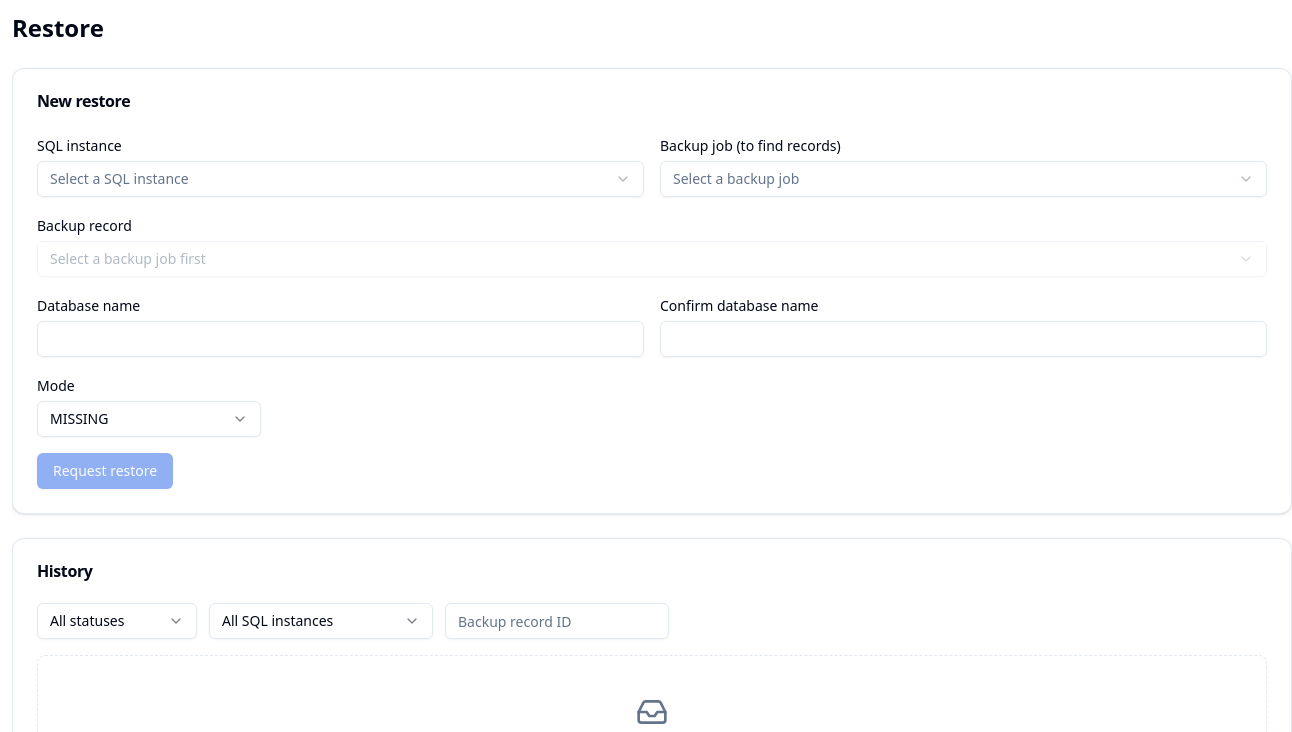
RestorePage -- admin role › renders the full mode select with ALL / EXISTING / MISSING options
Expected: the text "Mode" is shown, [37,376,75,395]
What coordinates should you click on to do the following:
click the dropdown labelled "MISSING"
I would click on:
 (149, 419)
Its box is [37,401,261,437].
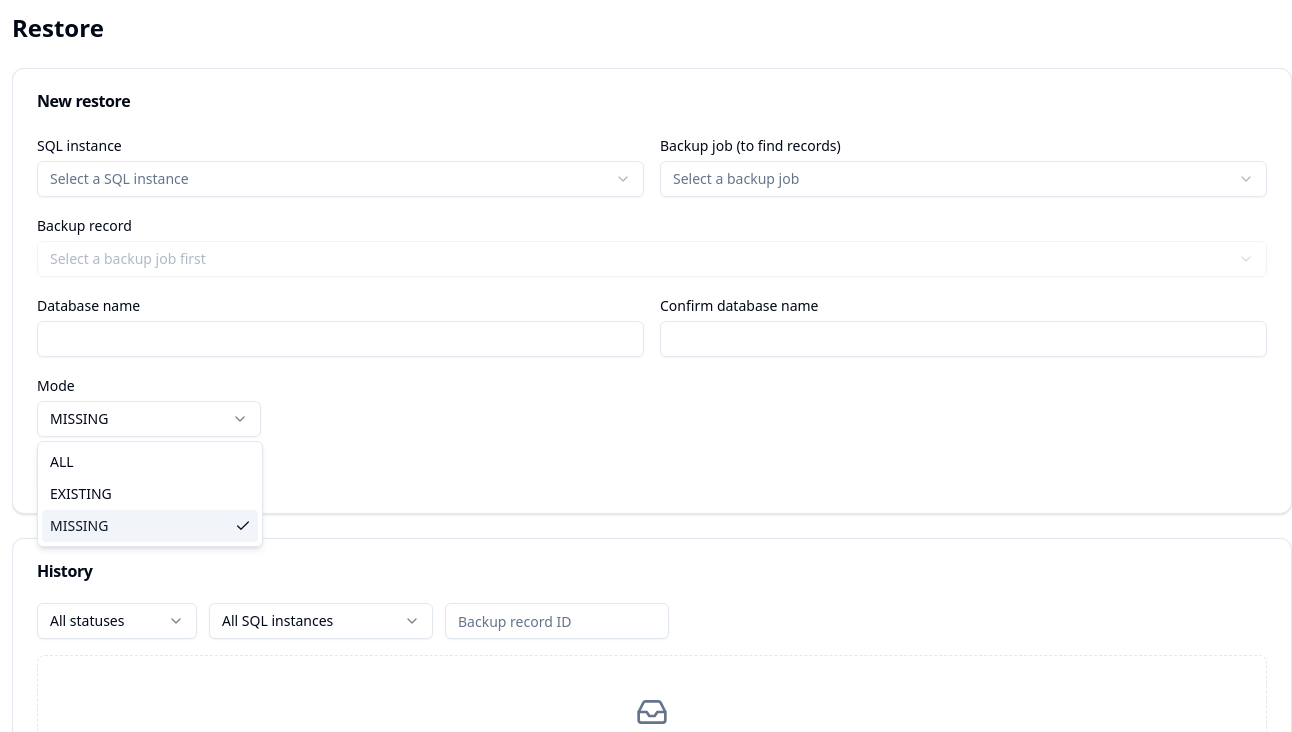
Result: the option "ALL" is shown at [50,452,74,471]
Result: the option "EXISTING" is shown at [50,484,112,503]
Result: the option "MISSING" is shown at [42,510,258,542]
